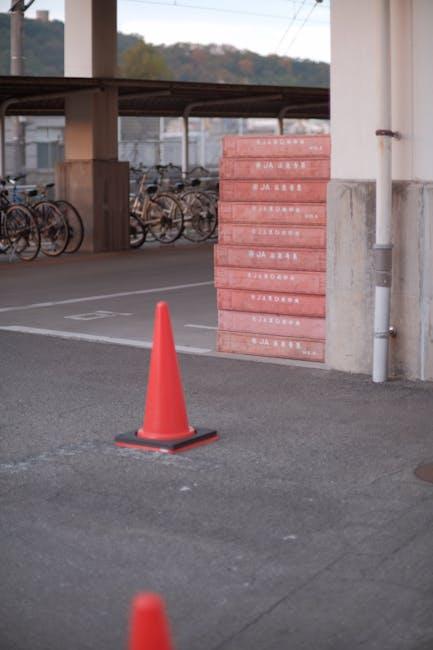traffic_cone: (114, 300, 219, 454), (113, 591, 199, 650), (123, 591, 180, 650)
